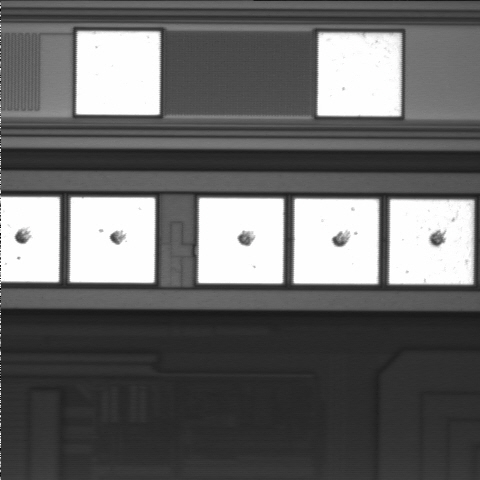pad: (70, 197, 155, 283), (198, 198, 283, 283), (294, 199, 379, 284), (389, 200, 474, 284), (76, 31, 160, 115), (318, 33, 401, 116)
